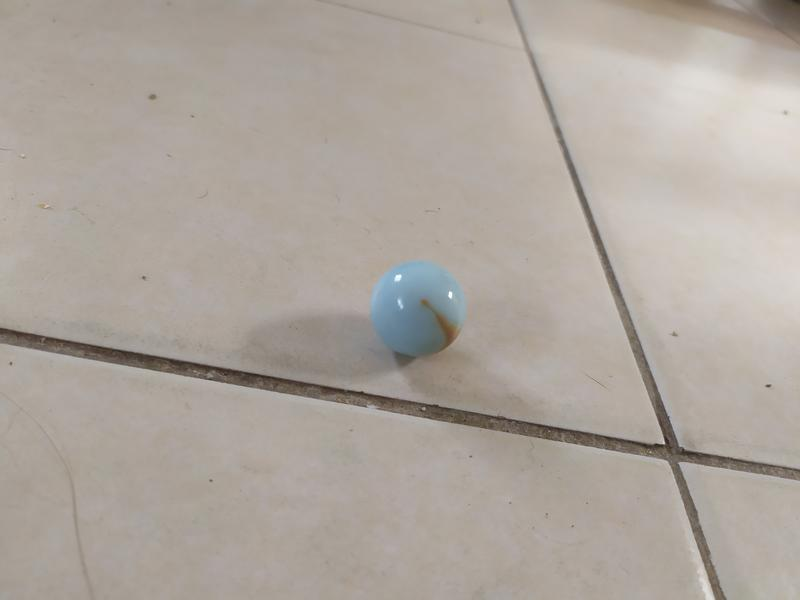Warning: (366, 254, 473, 362)
